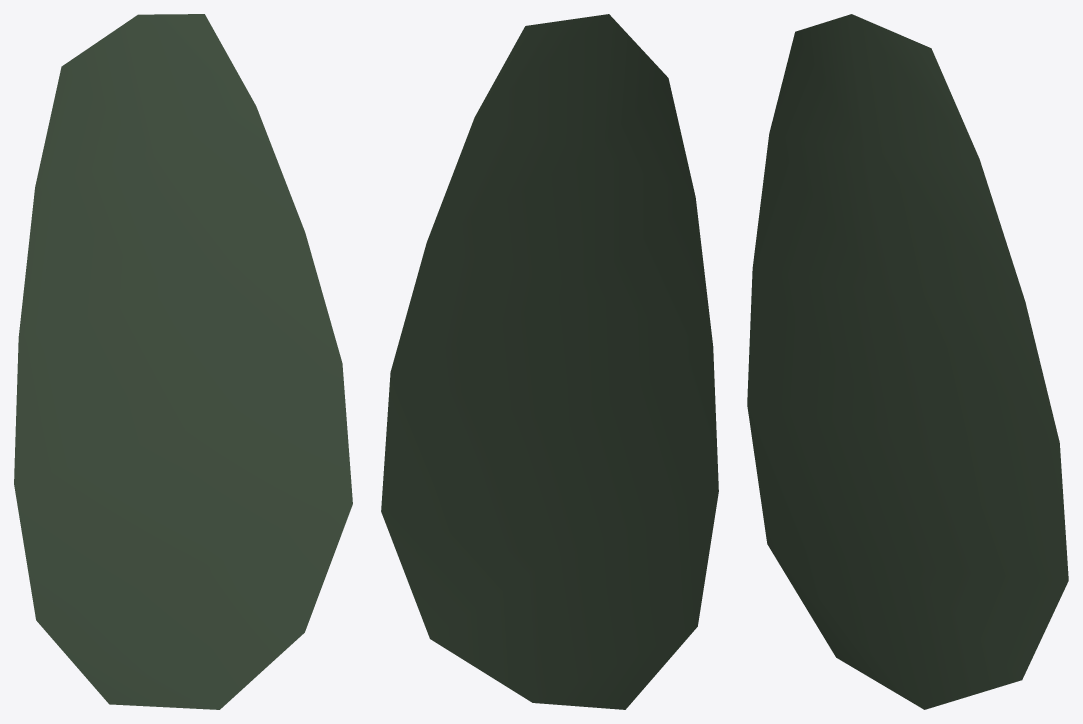
Rendered from duck_feather_flight_tertiary_017.obj.
The picture shows the model from 3 angles, left to right: view 1: azimuth 30°, elevation 25°; view 2: azimuth 150°, elevation 25°; view 3: azimuth 330°, elevation 25°; orthographic projection. The views are drawn at different scales.
Visible parts, largest first — view 1: feather_flight_tertiary_017; view 2: feather_flight_tertiary_017; view 3: feather_flight_tertiary_017.
Boxes of the visible parts, <box> form: feather_flight_tertiary_017: <box>14,14,352,709</box>; feather_flight_tertiary_017: <box>381,14,718,709</box>; feather_flight_tertiary_017: <box>747,14,1068,709</box>.
Size of the model in its own units: 0.0143 by 0.0287 by 0.000814.
